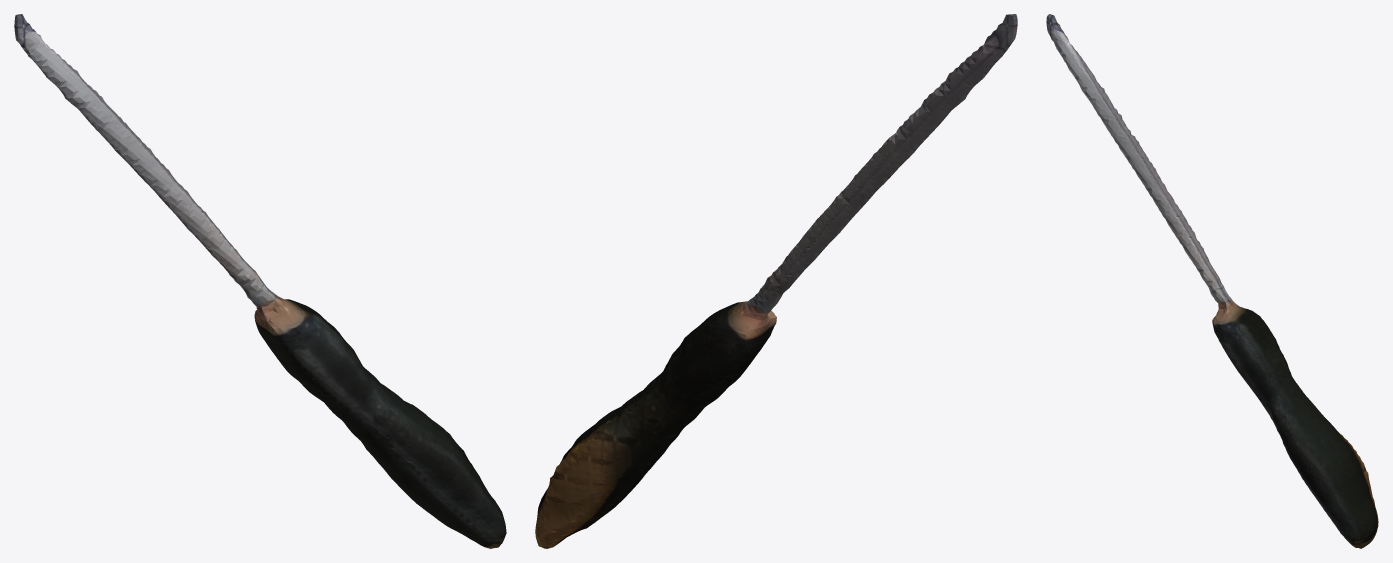
File: 1_rgba.obj
3 views of the same model, side by side, from view 1: azimuth 30°, elevation 25°; view 2: azimuth 150°, elevation 25°; view 3: azimuth 330°, elevation 25° (orthographic). The views are drawn at different scales.
Bounding box in the file's own units: 1.27 × 1.63 × 0.2023.
1 material, 1 textured.
